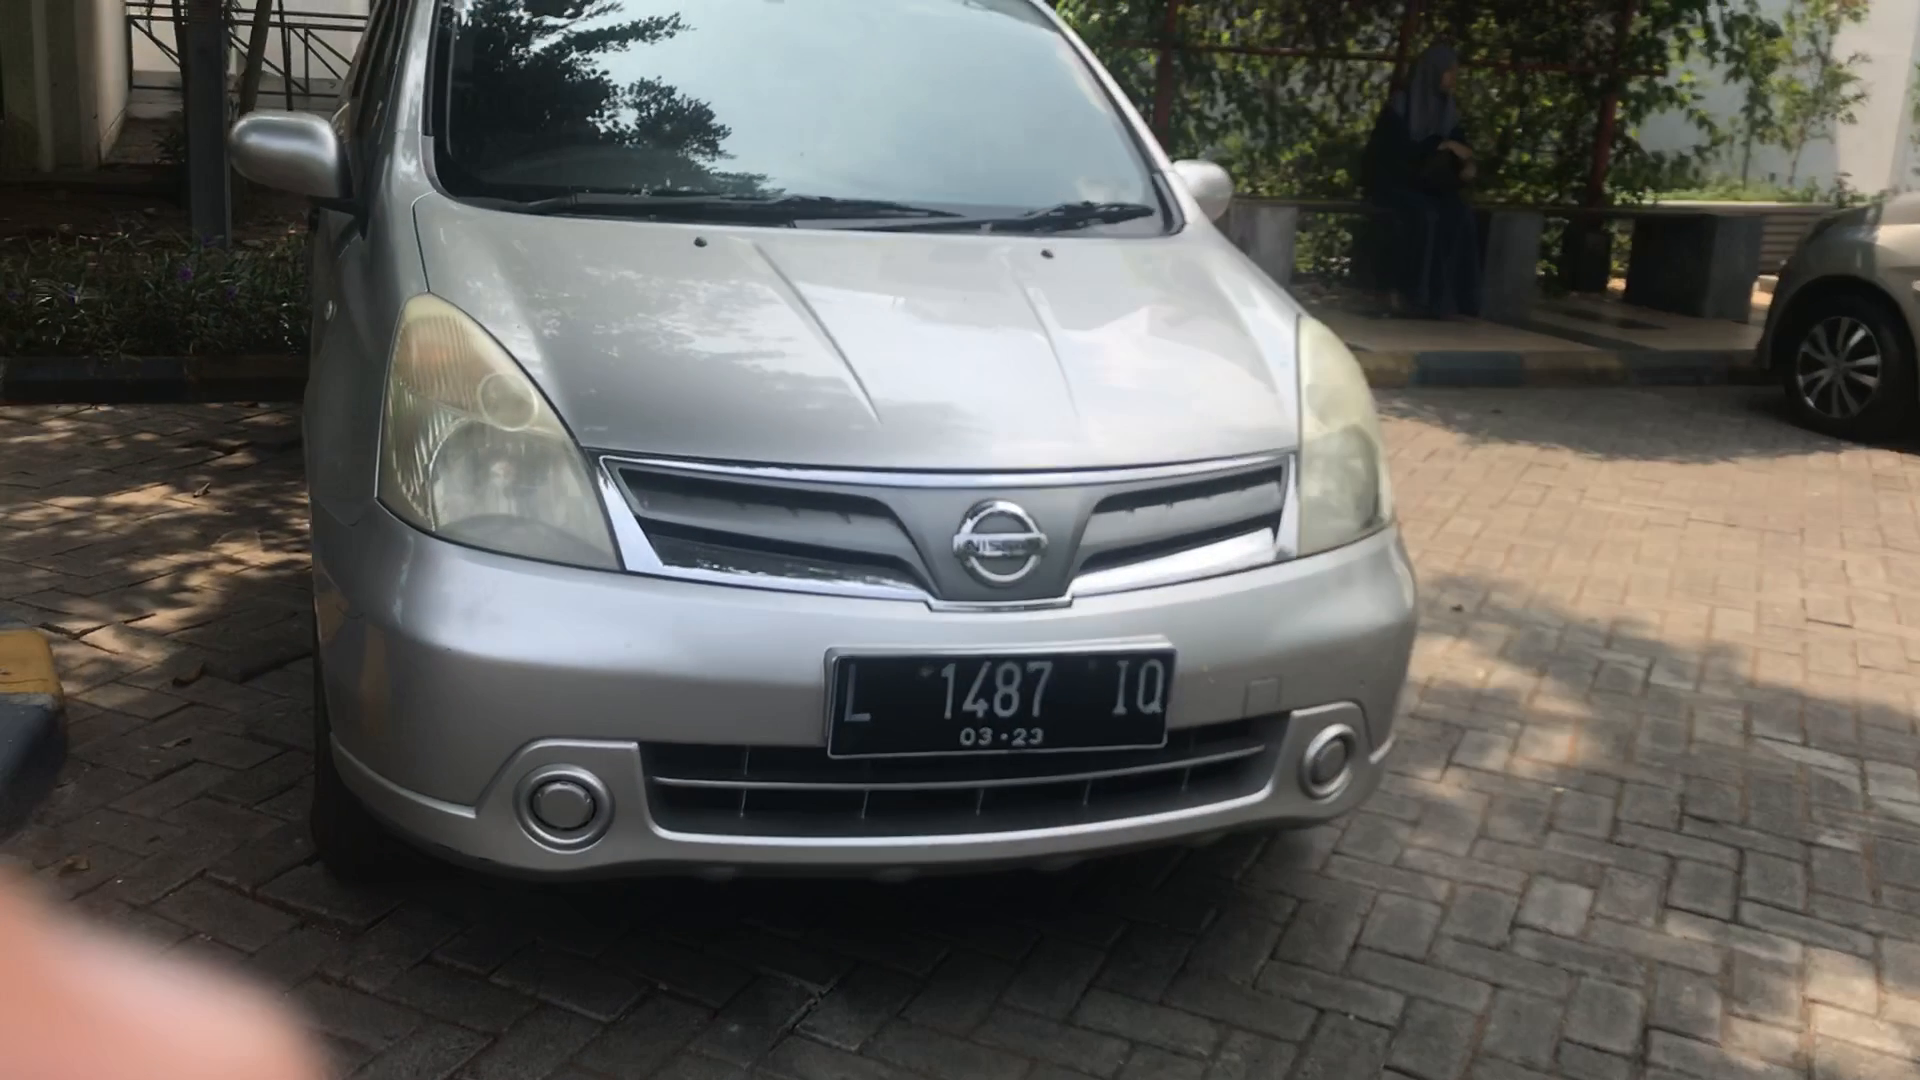plate: (830, 650, 1175, 757)
